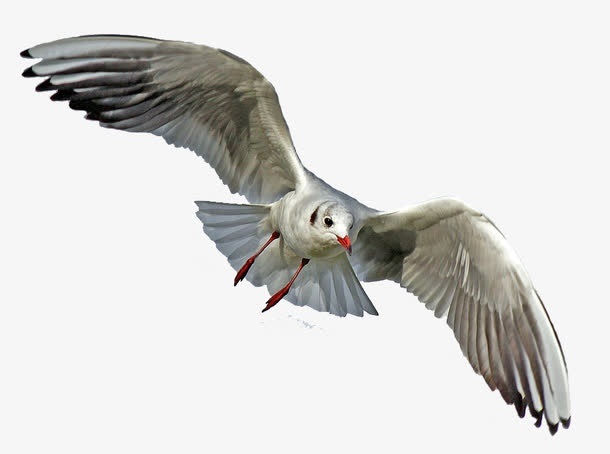bird: (21, 26, 583, 440)
